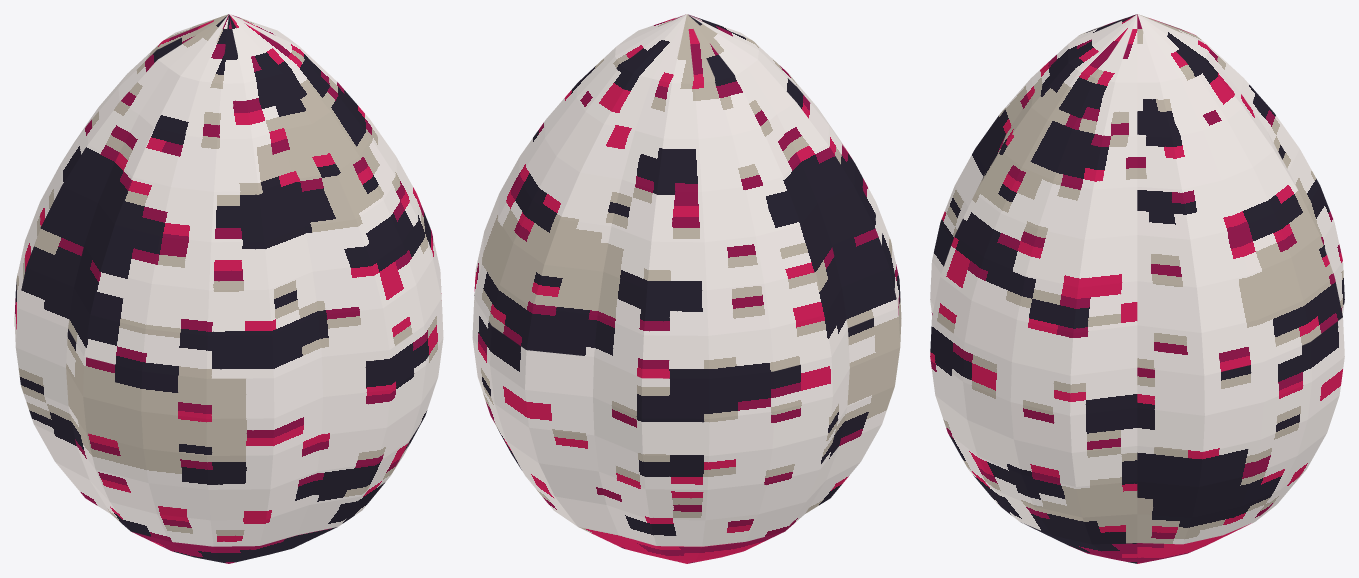
Rendered from NIE-05_Bulbo_de_esporas.gltf.
3 renders of one model, left to right at view 1: azimuth 30°, elevation 25°; view 2: azimuth 150°, elevation 25°; view 3: azimuth 270°, elevation 25°, orthographic.
Parts seen in each view (by area): view 1: NIE-05_Bulbo_de_esporas; view 2: NIE-05_Bulbo_de_esporas; view 3: NIE-05_Bulbo_de_esporas.
Part boxes in pixels (left/top/right/bottom): NIE-05_Bulbo_de_esporas: left=14, top=14, right=443, bottom=563; NIE-05_Bulbo_de_esporas: left=472, top=14, right=901, bottom=563; NIE-05_Bulbo_de_esporas: left=930, top=14, right=1344, bottom=563.
Size of what is drawn, in the model's own units: 0.8884 by 1.3 by 0.8884.
1 material, 1 textured.
